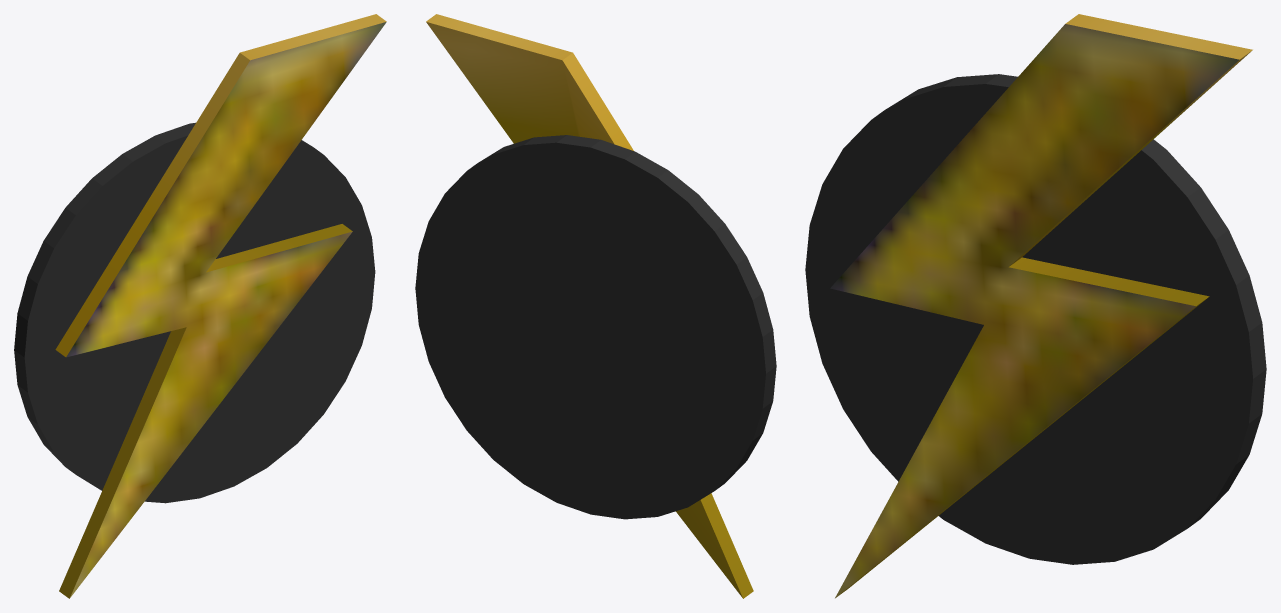
The model's file is Trigger.glb.
3 renders of one model, left to right at view 1: azimuth 30°, elevation 25°; view 2: azimuth 150°, elevation 25°; view 3: azimuth 330°, elevation 25°, orthographic. The views are drawn at different scales.
Parts seen in each view (by area): view 1: Cylinder.001; view 2: Cylinder.001; view 3: Cylinder.001.
Part boxes in pixels (left/top/right/bottom): Cylinder.001: left=14, top=14, right=386, bottom=598; Cylinder.001: left=415, top=14, right=776, bottom=598; Cylinder.001: left=805, top=14, right=1266, bottom=598.
Bounding box in the file's own units: 0.9602 × 1.31 × 0.1023.
2 materials, 1 textured.
